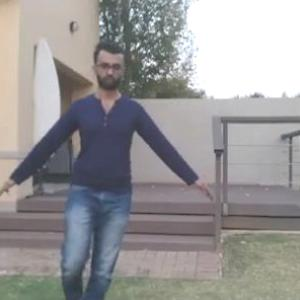land: (9, 52, 184, 299)
